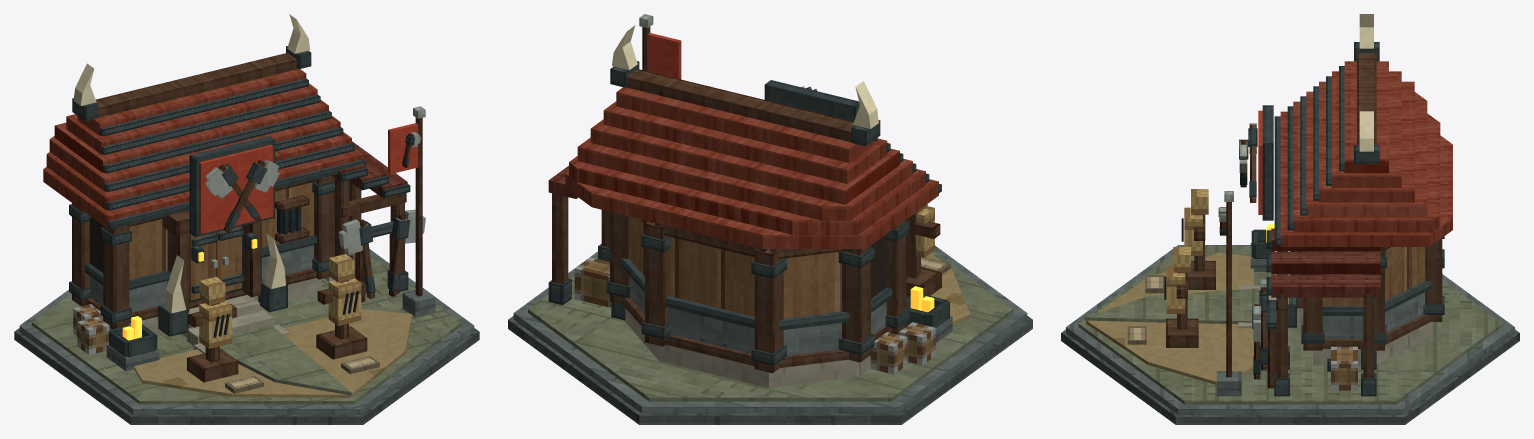
The model's file is orc_warrior_hall_hex_v1.glb.
The picture shows the model from 3 angles, left to right: view 1: azimuth 30°, elevation 25°; view 2: azimuth 150°, elevation 25°; view 3: azimuth 270°, elevation 25°; orthographic projection. The views are drawn at different scales.
Parts seen in each view (by area): view 1: Orc_Warrior_Hall_Hex_V1_Roofs, Orc_Warrior_Hall_Hex_V1_Hall, Orc_Warrior_Hall_Hex_V1_Foundation, Orc_Warrior_Hall_Hex_V1_Courtyard, Orc_Warrior_Hall_Hex_V1_Details, Orc_Warrior_Hall_Hex_V1_Training, Orc_Warrior_Hall_Hex_V1_Armory, Orc_Warrior_Hall_Hex_V1_Faction; view 2: Orc_Warrior_Hall_Hex_V1_Roofs, Orc_Warrior_Hall_Hex_V1_Hall, Orc_Warrior_Hall_Hex_V1_Foundation, Orc_Warrior_Hall_Hex_V1_Details, Orc_Warrior_Hall_Hex_V1_Armory, Orc_Warrior_Hall_Hex_V1_Training, Orc_Warrior_Hall_Hex_V1_Faction, Orc_Warrior_Hall_Hex_V1_Courtyard; view 3: Orc_Warrior_Hall_Hex_V1_Roofs, Orc_Warrior_Hall_Hex_V1_Foundation, Orc_Warrior_Hall_Hex_V1_Hall, Orc_Warrior_Hall_Hex_V1_Courtyard, Orc_Warrior_Hall_Hex_V1_Armory, Orc_Warrior_Hall_Hex_V1_Training, Orc_Warrior_Hall_Hex_V1_Details, Orc_Warrior_Hall_Hex_V1_Faction.
Boxes of the visible parts, box(x1,y1,x2,y2) form: Orc_Warrior_Hall_Hex_V1_Roofs: box(43, 14, 410, 229); Orc_Warrior_Hall_Hex_V1_Hall: box(69, 136, 334, 336); Orc_Warrior_Hall_Hex_V1_Foundation: box(14, 249, 479, 424); Orc_Warrior_Hall_Hex_V1_Courtyard: box(134, 295, 412, 397); Orc_Warrior_Hall_Hex_V1_Details: box(73, 106, 435, 371); Orc_Warrior_Hall_Hex_V1_Training: box(187, 254, 379, 393); Orc_Warrior_Hall_Hex_V1_Armory: box(324, 178, 425, 302); Orc_Warrior_Hall_Hex_V1_Faction: box(199, 123, 418, 233); Orc_Warrior_Hall_Hex_V1_Roofs: box(548, 25, 941, 248); Orc_Warrior_Hall_Hex_V1_Hall: box(606, 80, 909, 387); Orc_Warrior_Hall_Hex_V1_Foundation: box(508, 245, 1032, 424); Orc_Warrior_Hall_Hex_V1_Details: box(639, 14, 952, 374); Orc_Warrior_Hall_Hex_V1_Armory: box(548, 193, 625, 320); Orc_Warrior_Hall_Hex_V1_Training: box(906, 204, 950, 297); Orc_Warrior_Hall_Hex_V1_Faction: box(647, 33, 681, 79); Orc_Warrior_Hall_Hex_V1_Courtyard: box(906, 253, 970, 324); Orc_Warrior_Hall_Hex_V1_Roofs: box(1266, 14, 1452, 297); Orc_Warrior_Hall_Hex_V1_Foundation: box(1061, 245, 1519, 424); Orc_Warrior_Hall_Hex_V1_Hall: box(1262, 105, 1444, 365); Orc_Warrior_Hall_Hex_V1_Courtyard: box(1084, 252, 1303, 384); Orc_Warrior_Hall_Hex_V1_Armory: box(1252, 251, 1376, 396); Orc_Warrior_Hall_Hex_V1_Training: box(1127, 189, 1215, 347); Orc_Warrior_Hall_Hex_V1_Details: box(1216, 123, 1291, 396); Orc_Warrior_Hall_Hex_V1_Faction: box(1258, 110, 1262, 214).
Bounding box in the file's own units: 1.59 × 1.2 × 1.84.
Materials: 1 (1 with a texture image).
